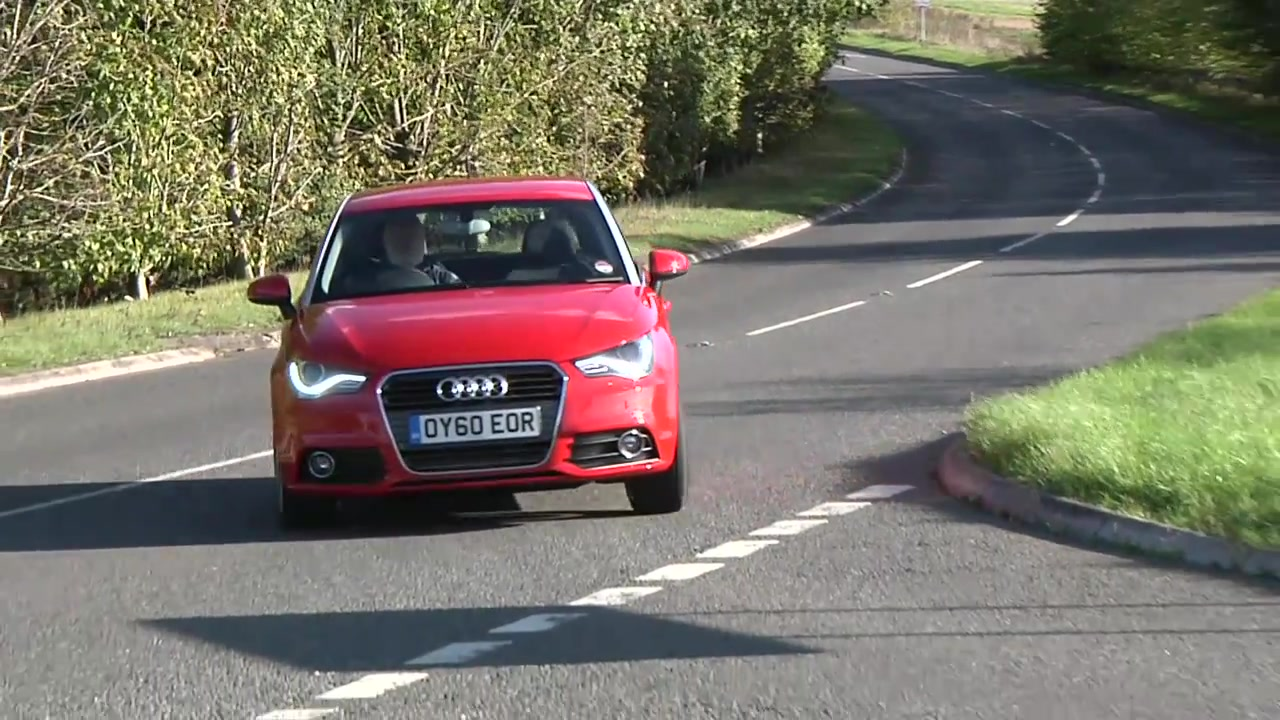car: (245, 172, 695, 527)
